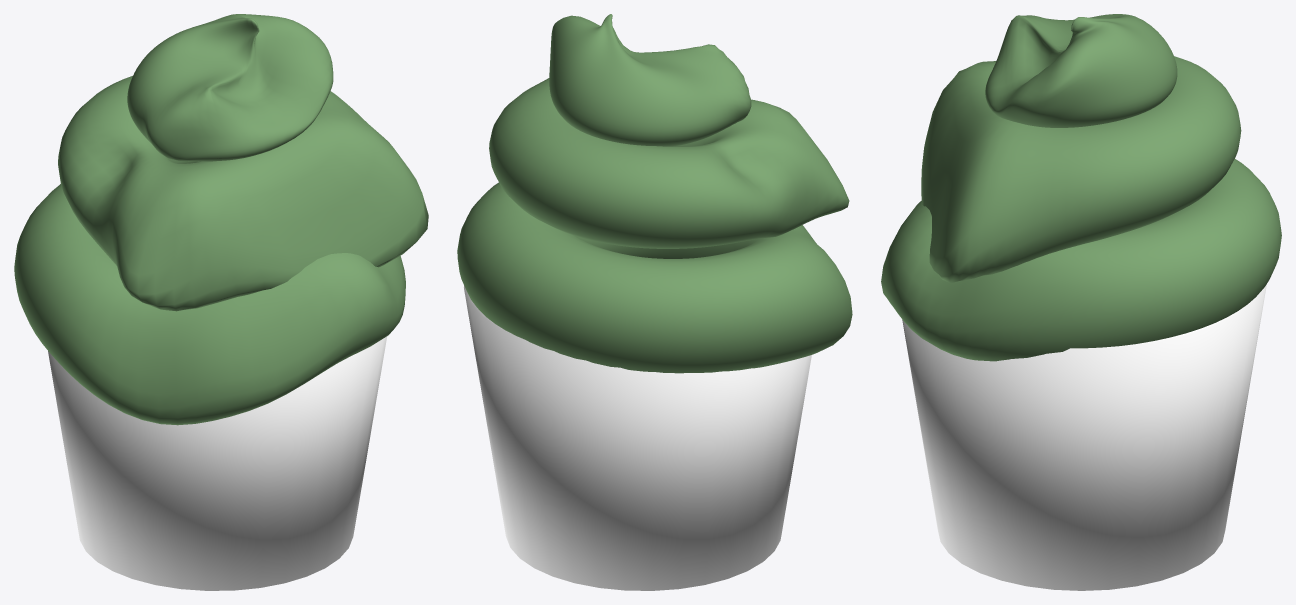
Rendered from matcha_poor.glb.
3 views of the same model, side by side, from view 1: azimuth 30°, elevation 25°; view 2: azimuth 150°, elevation 25°; view 3: azimuth 270°, elevation 25° (orthographic). The views are drawn at different scales.
Visible parts, largest first — view 1: 圓柱體, 環體.001, 環體, 球體; view 2: 圓柱體, 環體, 環體.001, 球體; view 3: 圓柱體, 環體.001, 環體, 球體.
Part boxes in pixels (x1=…): 圓柱體: x1=48, y1=336, x2=386, y2=590; 環體.001: x1=58, y1=76, x2=428, y2=311; 環體: x1=14, y1=184, x2=405, y2=425; 球體: x1=127, y1=14, x2=333, y2=161; 圓柱體: x1=464, y1=285, x2=811, y2=590; 環體: x1=457, y1=182, x2=852, y2=373; 環體.001: x1=489, y1=78, x2=849, y2=248; 球體: x1=549, y1=14, x2=751, y2=146; 圓柱體: x1=902, y1=284, x2=1266, y2=590; 環體.001: x1=921, y1=56, x2=1241, y2=283; 環體: x1=881, y1=159, x2=1281, y2=361; 球體: x1=985, y1=14, x2=1177, y2=127.
Size of the model in its own units: 3.01 by 4.28 by 2.94.
Materials: 2 (1 with a texture image).
